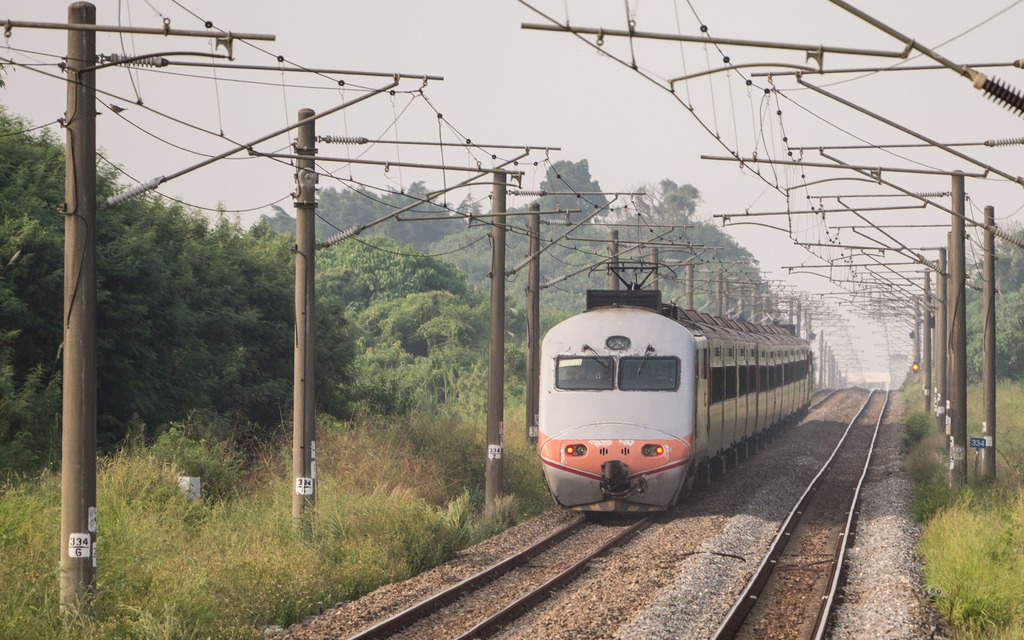train: (540, 261, 816, 513)
